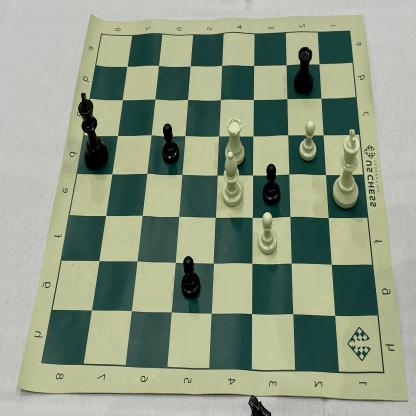black-king: (76, 90, 112, 171)
black-pawn: (178, 250, 202, 301), (261, 160, 283, 206), (160, 118, 181, 166)
black-rook: (291, 42, 315, 98)
white-bishop: (218, 149, 246, 210)
white-king: (329, 124, 363, 213)
white-pawn: (256, 208, 282, 258), (297, 117, 319, 163)
white-rook: (222, 114, 248, 170)
